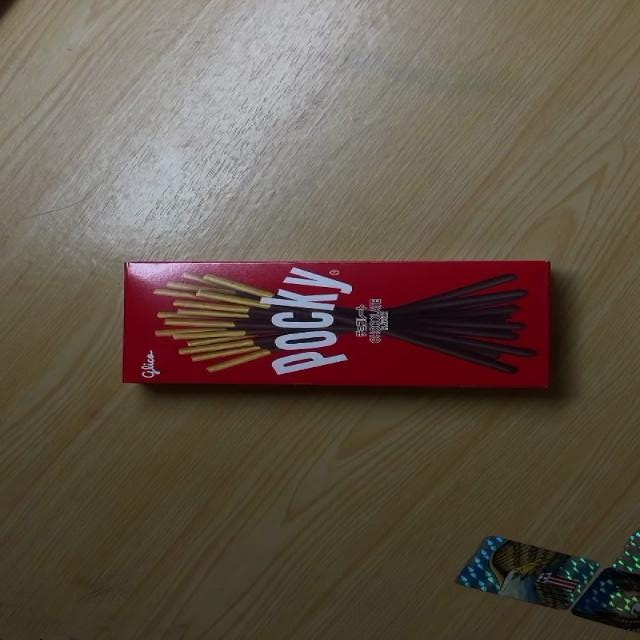Pocky: (120, 260, 552, 386)
